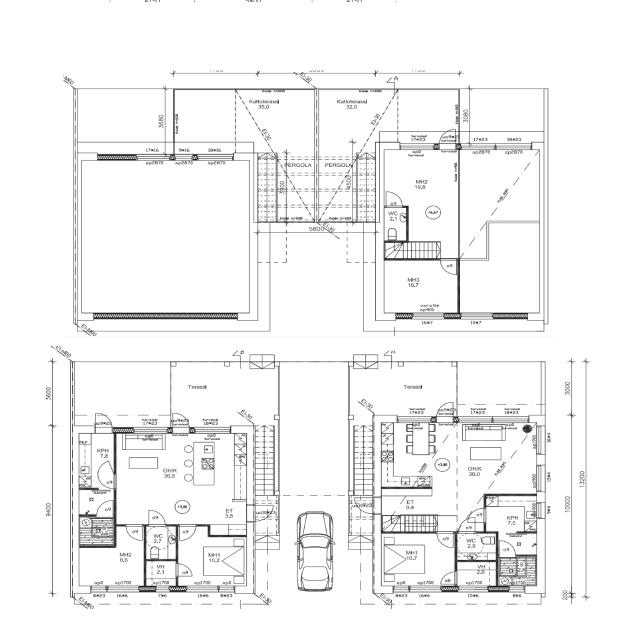door: (143, 524, 177, 560), (92, 411, 115, 433), (253, 501, 276, 522), (438, 129, 459, 150), (435, 400, 455, 420), (145, 509, 167, 527), (124, 523, 144, 542), (384, 189, 404, 208), (464, 508, 486, 525), (496, 538, 516, 556), (76, 319, 96, 337), (436, 530, 454, 549), (94, 499, 114, 516), (171, 412, 190, 429), (173, 152, 195, 166), (178, 524, 196, 541), (439, 258, 457, 274), (458, 519, 477, 534), (175, 562, 193, 577), (439, 570, 456, 585), (98, 475, 116, 489), (97, 460, 113, 474)
window: (190, 425, 232, 435), (134, 152, 168, 164), (398, 141, 438, 151), (194, 153, 233, 163), (184, 584, 221, 594), (493, 141, 530, 151), (132, 426, 168, 436), (407, 584, 442, 594), (534, 463, 545, 492), (411, 312, 446, 320), (105, 585, 140, 593), (460, 312, 494, 320), (398, 415, 430, 423), (457, 586, 488, 594), (214, 585, 234, 593), (90, 584, 108, 592), (532, 533, 538, 556), (153, 585, 170, 593), (508, 585, 525, 593)
zone: (118, 434, 245, 525), (169, 362, 274, 427), (455, 426, 538, 497), (350, 361, 455, 416), (381, 148, 460, 216), (247, 91, 313, 161), (380, 422, 448, 487), (75, 525, 144, 589), (175, 528, 246, 589), (381, 259, 458, 314), (382, 532, 454, 590), (297, 526, 333, 590), (76, 432, 114, 489), (484, 495, 537, 533), (497, 557, 537, 589), (454, 531, 497, 560), (144, 525, 178, 561), (455, 560, 497, 589), (298, 511, 332, 546), (79, 516, 114, 546), (78, 491, 114, 516), (145, 560, 176, 588), (384, 207, 407, 241)
